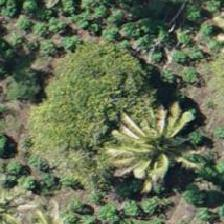coconut_tree: (112, 110, 202, 200)
